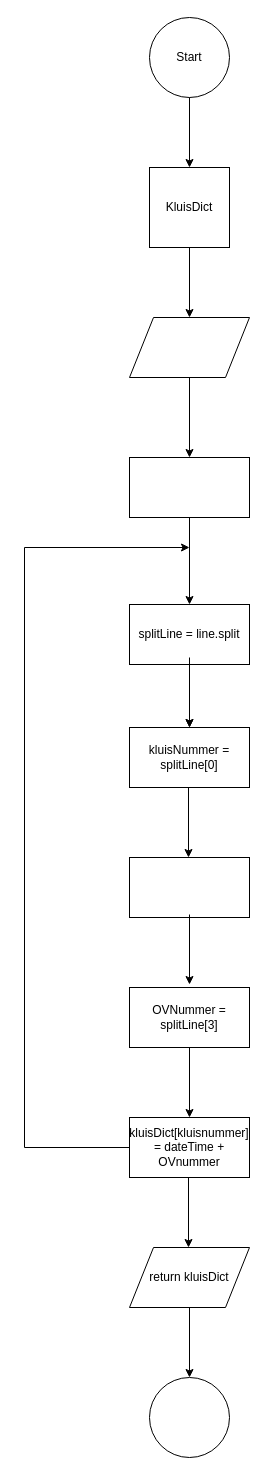
This 267x1475 diagram has some shape labels left out. The shapes that lost their labels are listed below. From the top down, each one's centre as x and y in pixels, then its label:
the point at 189,347: readFile Fietsen- Stalling
the point at 189,487: voor lijn in 'readFile'
the point at 189,887: dateTime = splitLine[1] + splitLine[2]
the point at 189,1417: End
